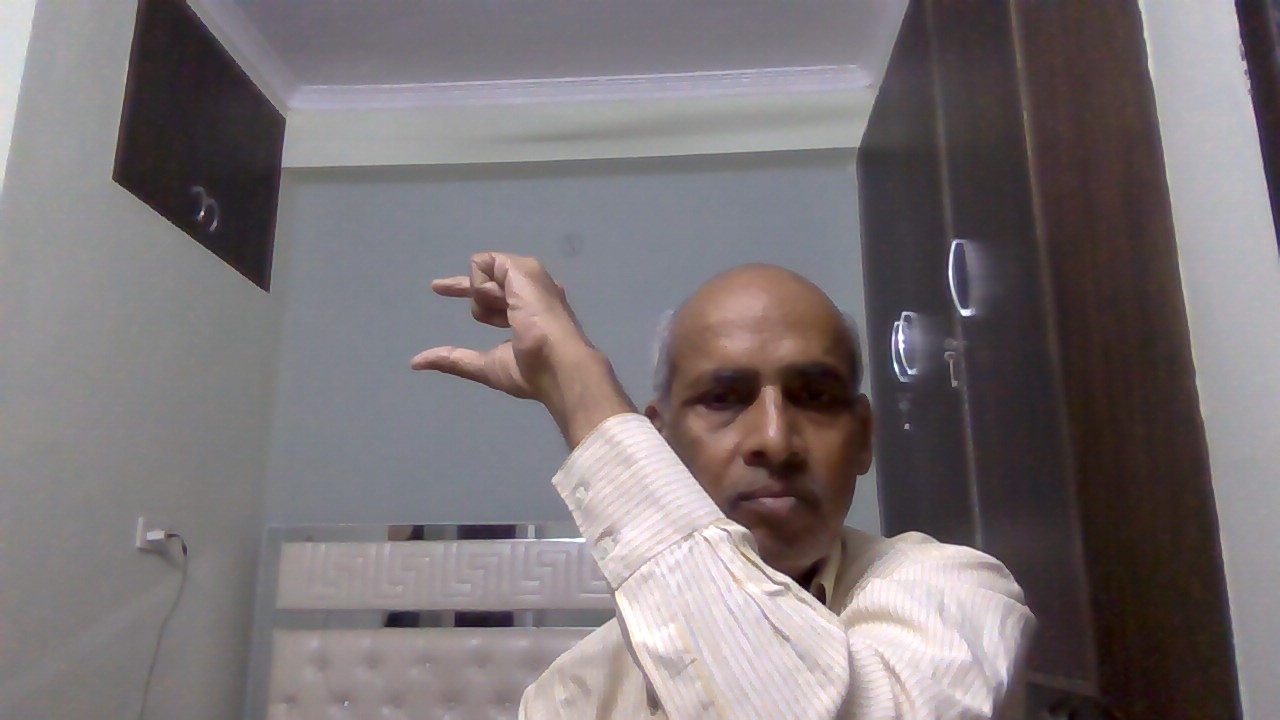Paste: (402, 240, 640, 420)
